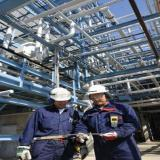Helmet: (49, 87, 72, 101), (87, 85, 109, 95)
